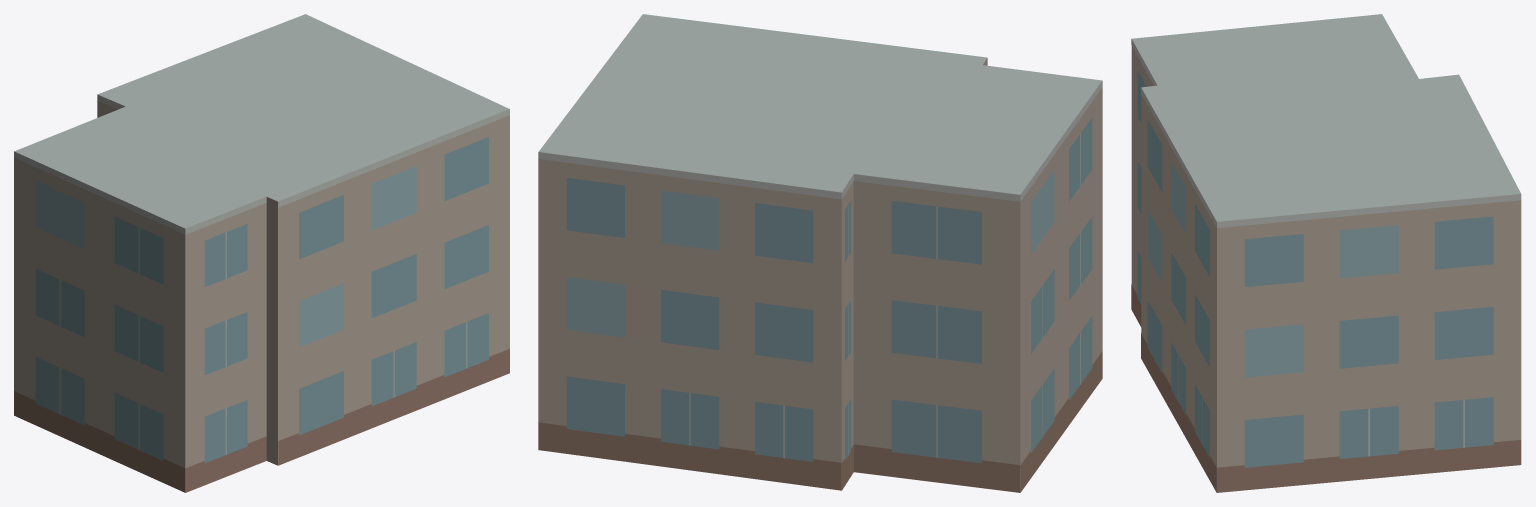
The model's file is survey-upis-32715547.glb.
3 views of the same model, side by side, from view 1: azimuth 30°, elevation 25°; view 2: azimuth 150°, elevation 25°; view 3: azimuth 270°, elevation 25° (orthographic). The views are drawn at different scales.
Parts seen in each view (by area): view 1: survey-upis-32715547.tmp; view 2: survey-upis-32715547.tmp; view 3: survey-upis-32715547.tmp.
Boxes of the visible parts, bbox=[...] form: survey-upis-32715547.tmp: bbox=[14, 14, 509, 492]; survey-upis-32715547.tmp: bbox=[538, 14, 1102, 492]; survey-upis-32715547.tmp: bbox=[1131, 14, 1521, 492].
Size of the model in its own units: 17.28 by 10.5 by 13.69.
